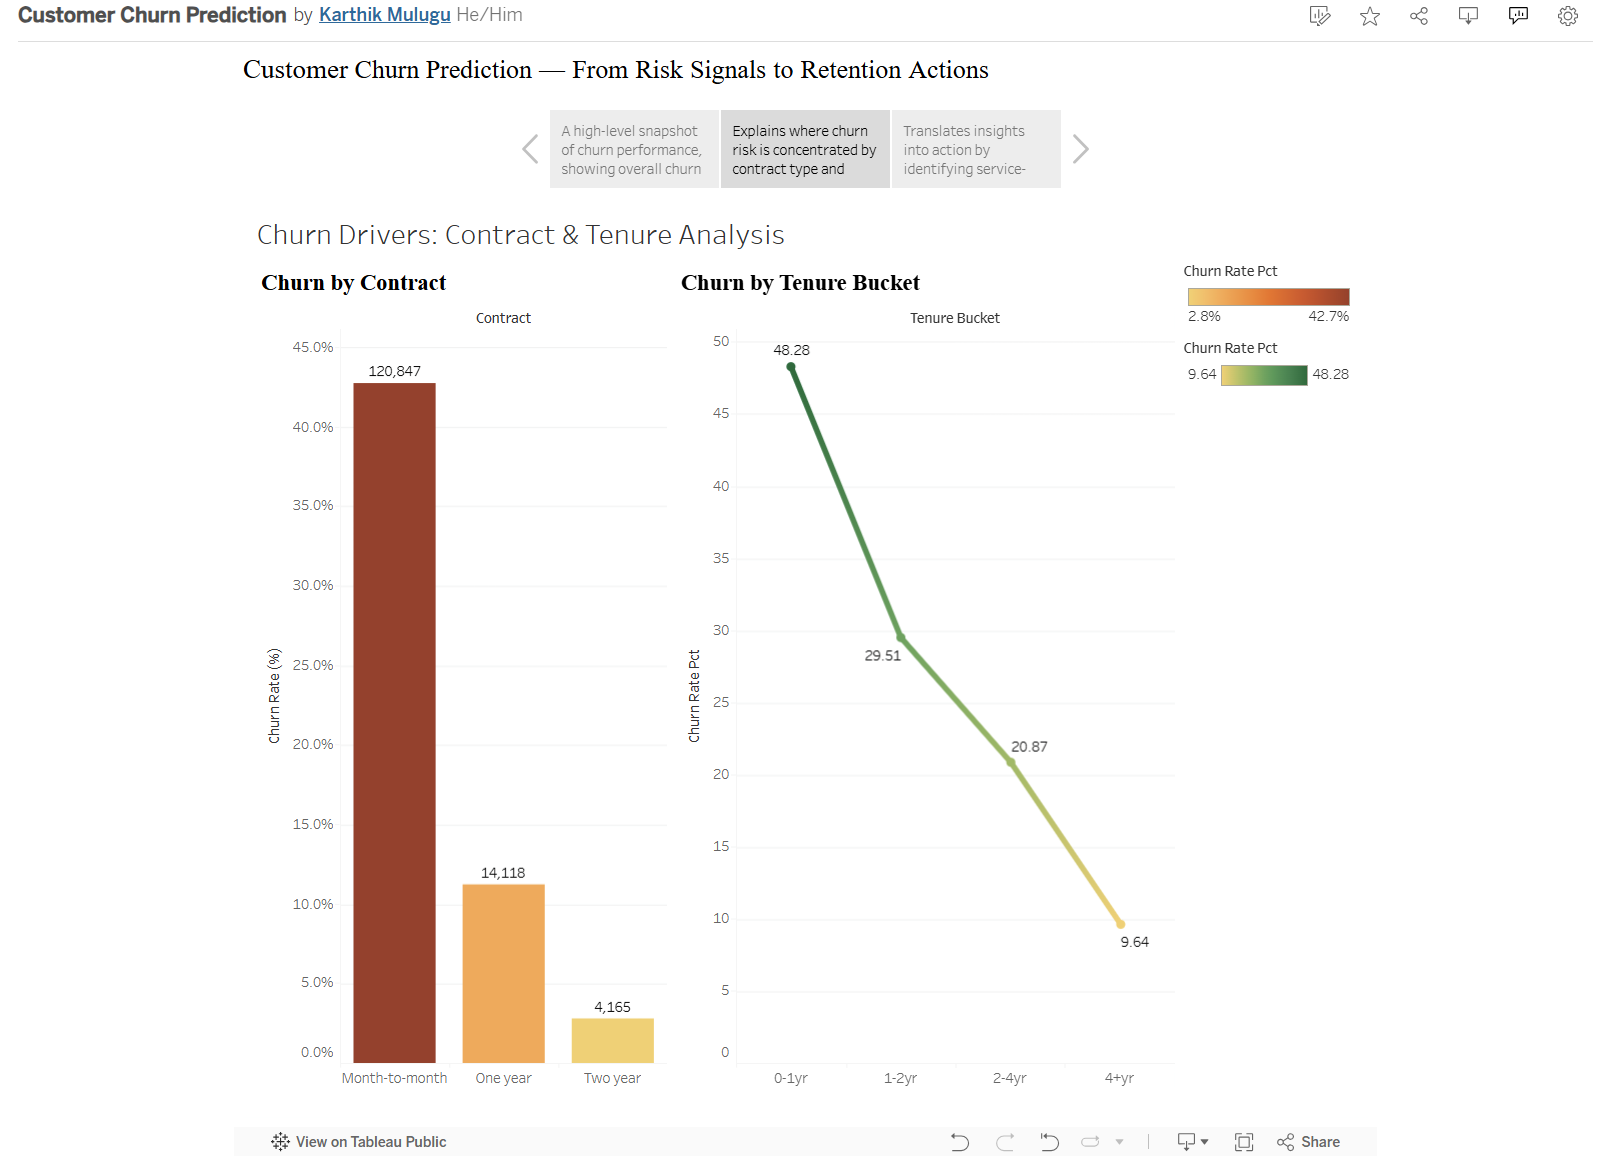

This screenshot's page, from the dashboard's own definition file:
{"tool":"tableau","page":{"name":"Churn Drivers: Contract & Tenure Analysis","canvas":[1000,1000],"units":"permille","ordinal":0},"visuals":[{"type":"title","box":[6.7,10,986.7,72.5]},{"type":"worksheet","title":"Churn by Contract ","mark":"Automatic","rows":["churn_rate_pct"],"cols":["Contract"],"box":[6.7,82.5,388.9,907.5]},{"type":"worksheet","title":"Churn by Tenure Bucket","mark":"Line","rows":["churn_rate_pct"],"cols":["tenure_bucket"],"box":[395.6,82.5,464.4,907.5]},{"type":"legend","title":"Churn by Contract ","param":"[federated.0a4k68a0j1ajfu1ei0nr00nu4g28].[sum:churn_rate_pct:qk]","box":[860,82.5,133.3,101.2]},{"type":"legend","title":"Churn by Tenure Bucket","param":"[federated.0okpal2068k80q147pit61mzxc3j].[sum:churn_rate_pct:qk]","box":[860,183.8,133.3,101.2]}]}

Visuals, with their boxes on the dashboard's canvas, which has no fixed pixel size, in thousandths of its width and height (x1, y1, x2, y2). These are canvas units, not pixel positions in the 1623x1173 screenshot, which may show the page scaled, cropped or inside an application window:
title: x1=7, y1=10, x2=993, y2=82
"Churn by Contract " worksheet: x1=7, y1=82, x2=396, y2=990
"Churn by Tenure Bucket" worksheet (Line marks): x1=396, y1=82, x2=860, y2=990
"Churn by Contract " legend: x1=860, y1=82, x2=993, y2=184
"Churn by Tenure Bucket" legend: x1=860, y1=184, x2=993, y2=285
